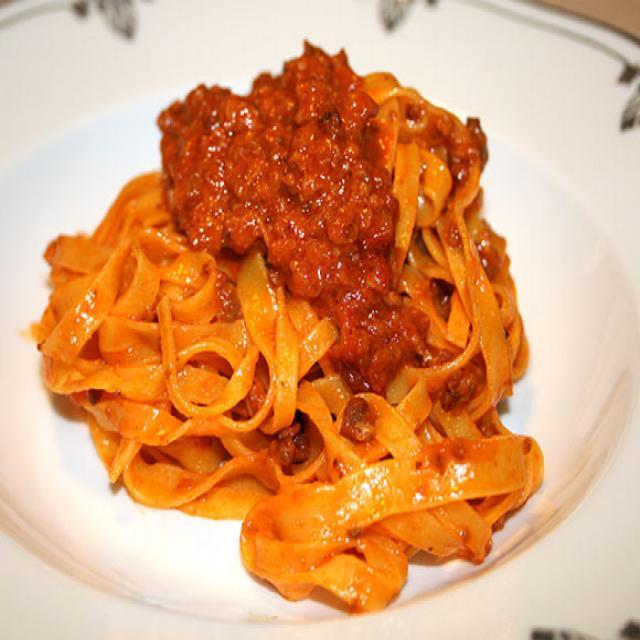Pasta al ragu: (42, 26, 590, 612)
